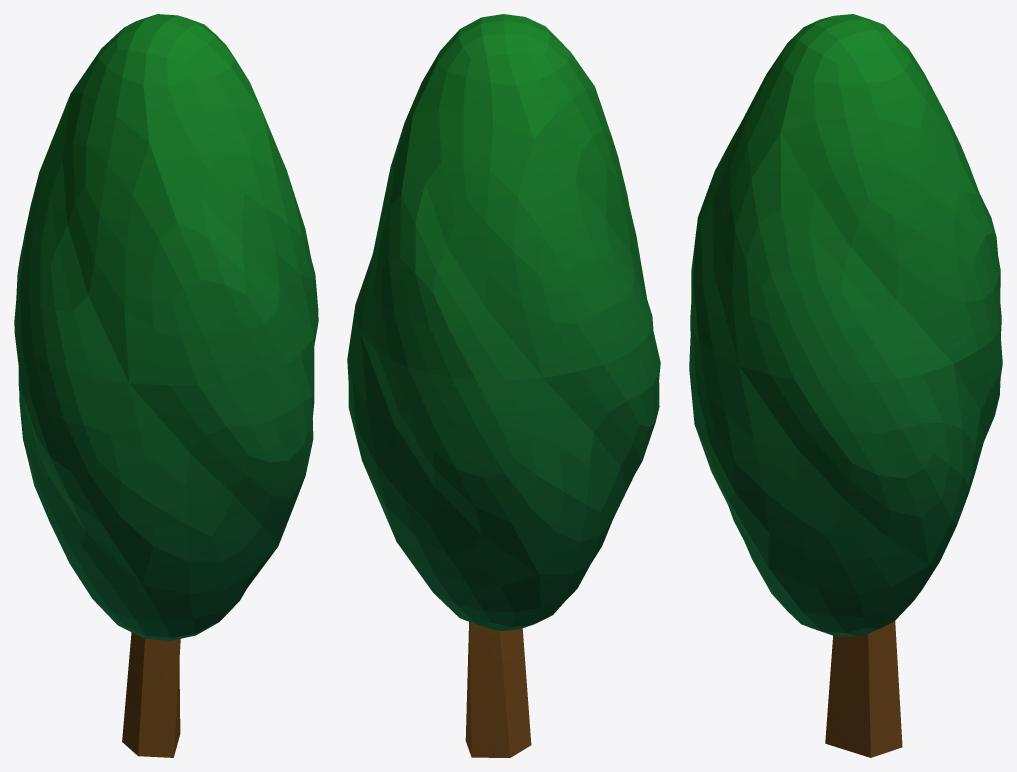
The model's file is tree6.fbx.
3 views of the same model, side by side, from view 1: azimuth 30°, elevation 25°; view 2: azimuth 150°, elevation 25°; view 3: azimuth 270°, elevation 25° (orthographic).
Parts seen in each view (by area): view 1: GeoSphere047; view 2: GeoSphere047; view 3: GeoSphere047.
Part boxes in pixels (x1,y1,x2,y2): GeoSphere047: (14,14,318,757); GeoSphere047: (347,14,660,757); GeoSphere047: (689,14,1002,757).
Size of the model in its own units: 1104 by 2812 by 1104.
Materials: 1 (1 with a texture image).
